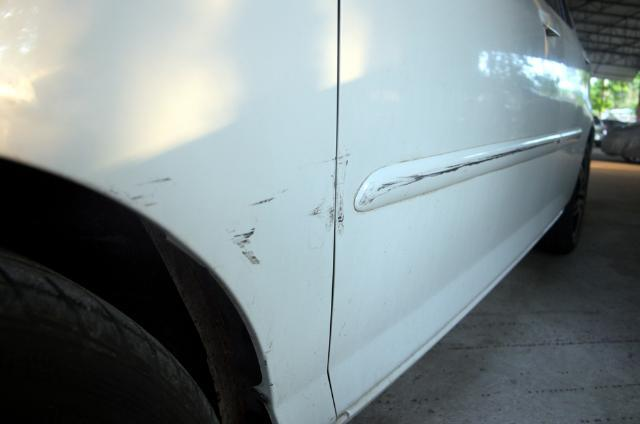scratch: (358, 137, 560, 209), (230, 186, 296, 267), (118, 174, 177, 216), (308, 165, 337, 232), (335, 153, 348, 234)
